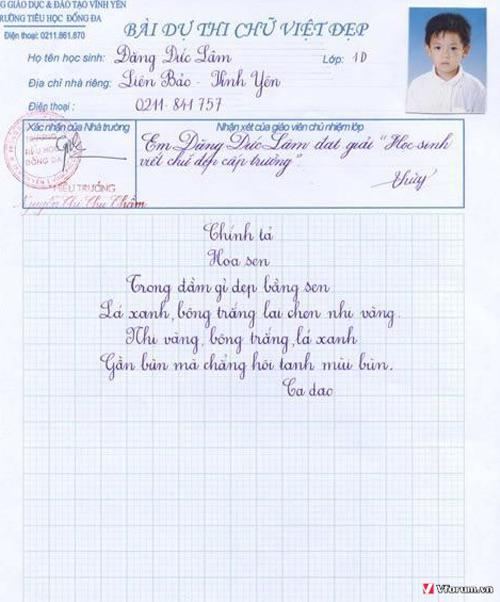text: (95, 296, 400, 331), (96, 350, 394, 384), (138, 129, 455, 160), (27, 66, 284, 100), (123, 324, 360, 355), (124, 271, 332, 304), (121, 15, 369, 41), (136, 149, 305, 180), (25, 44, 236, 68), (25, 95, 225, 114), (10, 192, 147, 218), (52, 131, 128, 174), (214, 119, 365, 135), (199, 219, 277, 245), (366, 165, 439, 192), (0, 9, 104, 26), (25, 119, 131, 135), (205, 246, 273, 270), (0, 0, 133, 11), (279, 376, 335, 400), (0, 29, 89, 42), (47, 180, 118, 195), (433, 583, 497, 597), (320, 49, 369, 66)
